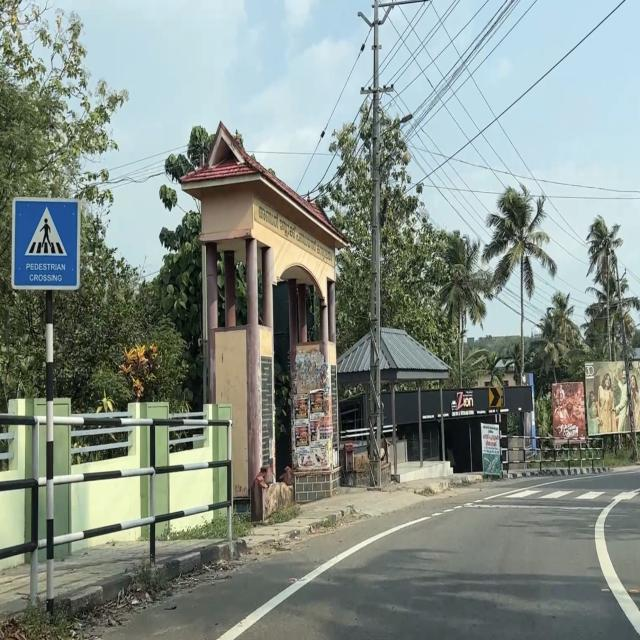PEDESTRIAN_CROSSING: (11, 195, 81, 292)
TURN_RIGHT: (488, 386, 502, 407)
